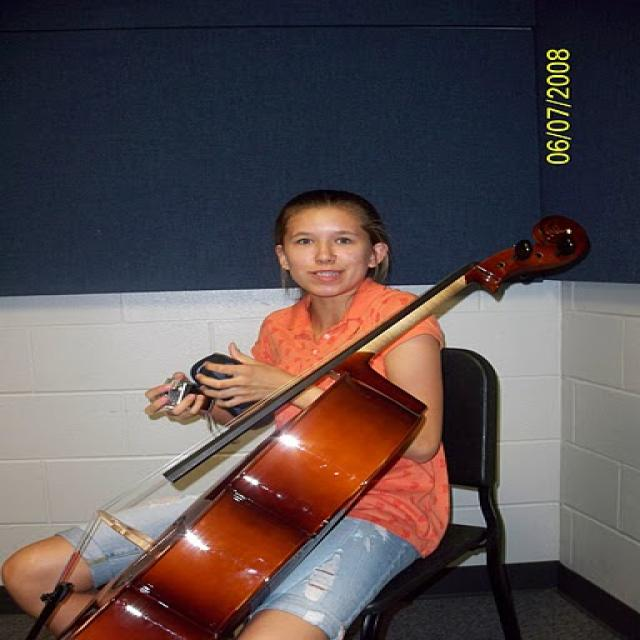cello: (26, 210, 596, 640)
